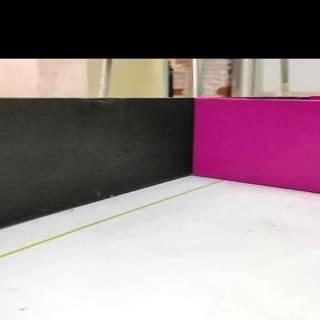xparking: (196, 100, 320, 188)
